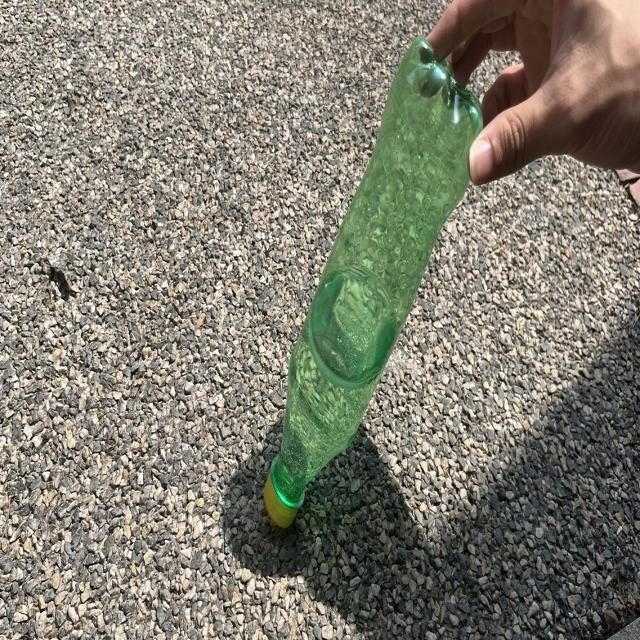medium: (265, 38, 482, 525)
